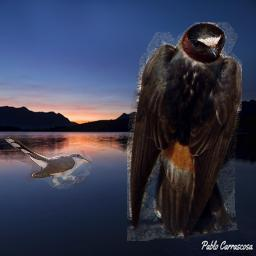Cuckoo: (4, 133, 92, 189)
Swallow: (127, 22, 242, 241)
